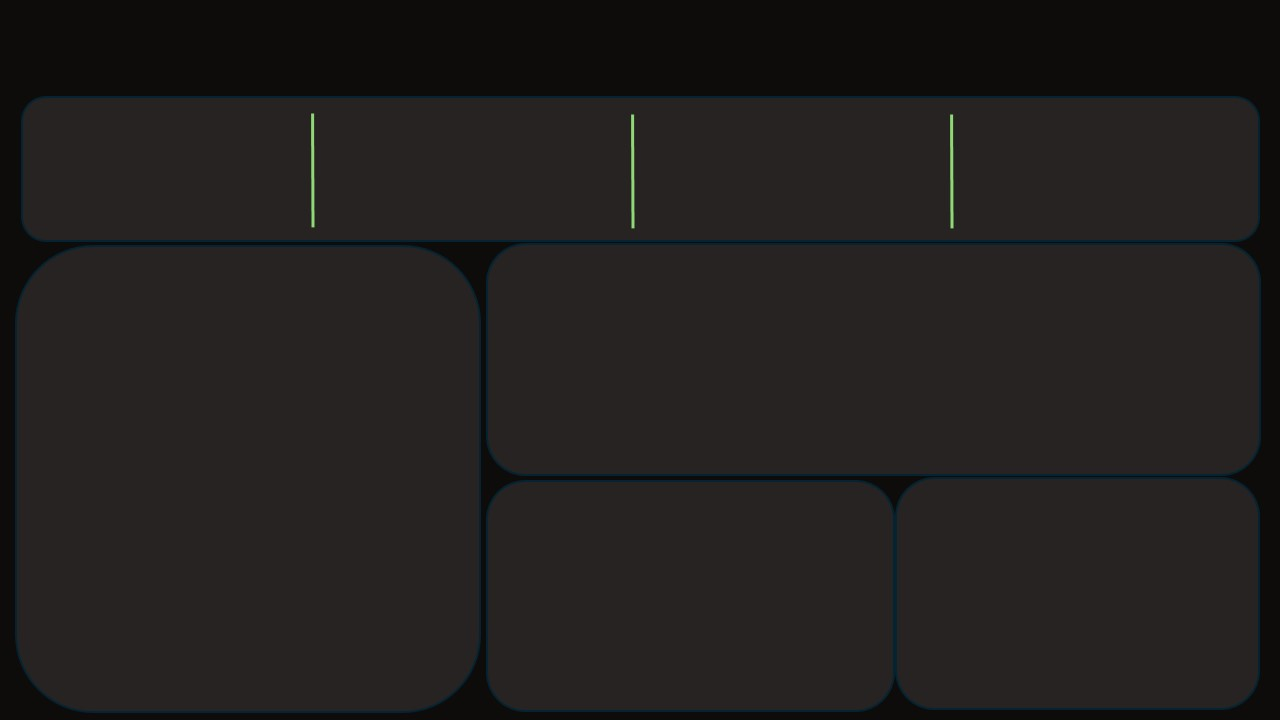

The page's visual inventory and layout, read from the dashboard file:
{"tool":"powerbi","page":{"name":"Page 1","canvas":[1280,720],"ordinal":0},"visuals":[{"type":"donutChart","fields":{"Category":["Orders.Region"],"Y":["Sum(Orders.Sales)"]},"box":[907.6,485.8,357.8,219.6],"z":0},{"type":"funnel","fields":{"Category":["Orders.Sub-Category"],"Y":["Sum(Orders.Sales)"]},"box":[33.5,260.4,440.7,446.5],"z":1},{"type":"pieChart","fields":{"Category":["Orders.Segment"],"Y":["Sum(Orders.Sales)"]},"box":[504.7,490.2,384,213.8],"z":3},{"type":"lineChart","fields":{"Category":["Orders.Order Date"],"Y":["Sum(Orders.Sales)"]},"box":[494.5,250.2,763.6,221.1],"z":4},{"type":"card","fields":{"Values":["Sum(Orders.Discount)"]},"box":[33.5,101.8,277.8,129.5],"z":8},{"type":"textbox","box":[33.5,0,778.2,91.6],"z":9},{"type":"card","fields":{"Values":["Sum(Orders.Quantity)"]},"box":[650.2,101.8,277.8,129.5],"z":10},{"type":"card","fields":{"Values":["Sum(Orders.Profit)"]},"box":[321.5,101.8,305.5,129.5],"z":11},{"type":"card","fields":{"Values":["Sum(Orders.Sales)"]},"box":[967.3,101.8,277.8,129.5],"z":12},{"type":"slicer","fields":{"Values":["Orders.Region"]},"box":[733.1,20.4,546.9,71.3],"z":13}]}

Visuals, with their boxes in screenshot pixels (x1, y1, x2, y2), scaled from the page's 1280x720 canvas onto the 1280x720 screenshot:
donutChart - Orders.Region x Sum(Orders.Sales): BBox(908, 486, 1265, 705)
funnel - Orders.Sub-Category x Sum(Orders.Sales): BBox(34, 260, 474, 707)
pieChart - Orders.Segment x Sum(Orders.Sales): BBox(505, 490, 889, 704)
lineChart - Orders.Order Date x Sum(Orders.Sales): BBox(494, 250, 1258, 471)
card - Sum(Orders.Discount): BBox(34, 102, 311, 231)
textbox: BBox(34, 0, 812, 92)
card - Sum(Orders.Quantity): BBox(650, 102, 928, 231)
card - Sum(Orders.Profit): BBox(322, 102, 627, 231)
card - Sum(Orders.Sales): BBox(967, 102, 1245, 231)
slicer - Orders.Region: BBox(733, 20, 1279, 92)
